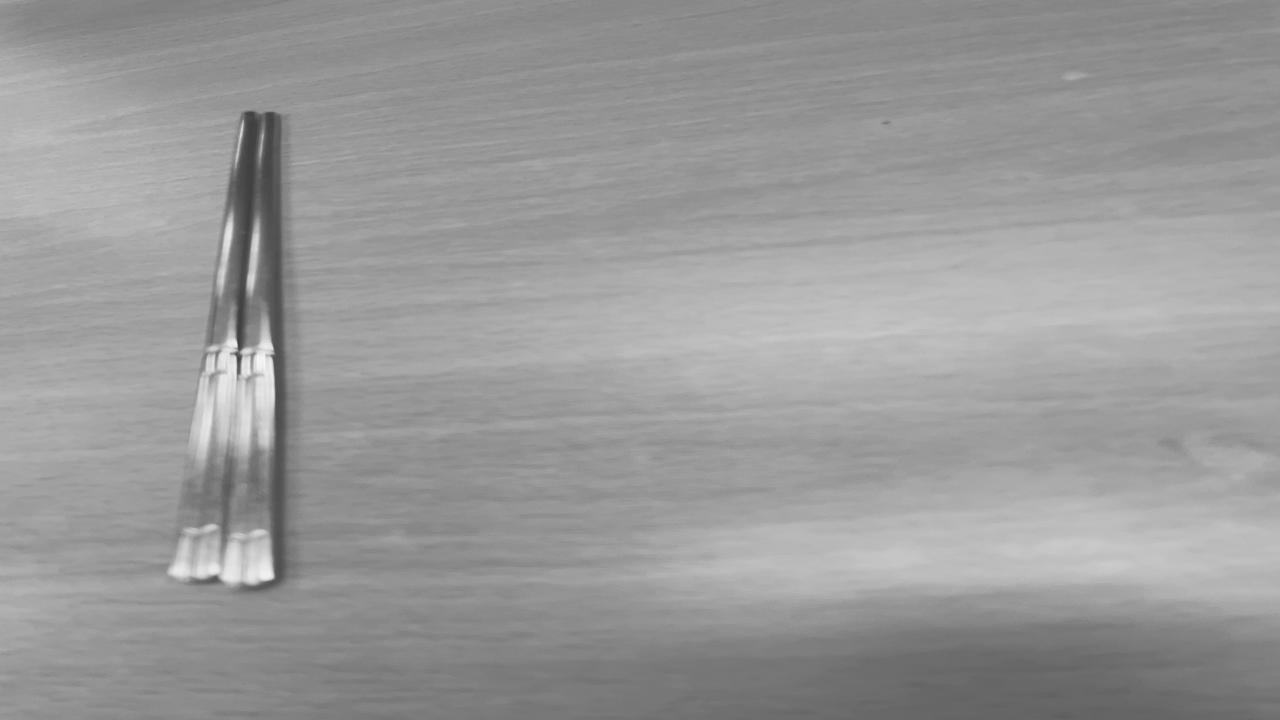chopstick: (172, 110, 278, 585)
